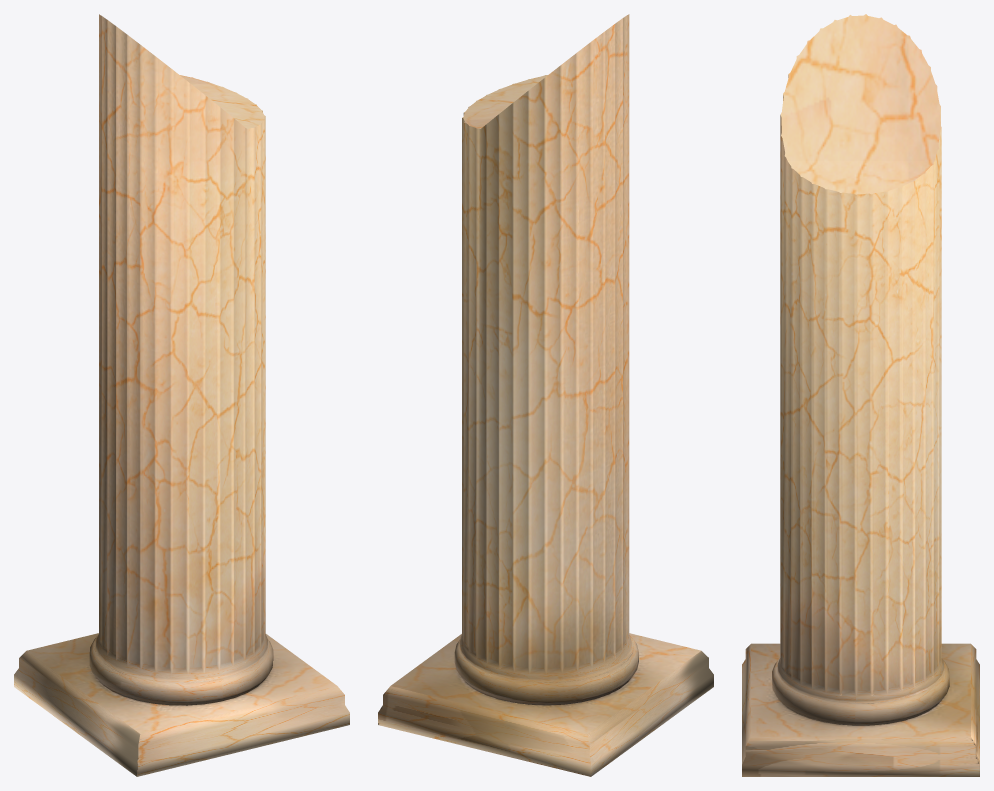
Rendered from columna4.fbx.
3 renders of one model, left to right at view 1: azimuth 30°, elevation 25°; view 2: azimuth 150°, elevation 25°; view 3: azimuth 270°, elevation 25°, orthographic. The views are drawn at different scales.
Visible parts, largest first — view 1: Columna rota 3; view 2: Columna rota 3; view 3: Columna rota 3.
Boxes of the visible parts, box(x1,y1,x2,y2) form: Columna rota 3: box(14, 14, 349, 776); Columna rota 3: box(378, 14, 713, 776); Columna rota 3: box(742, 14, 979, 776).
Bounding box in the file's own units: 56.47 × 178 × 56.47.
